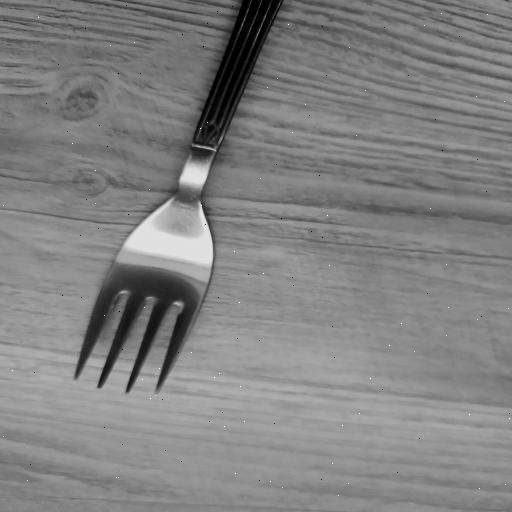fork: (60, 0, 289, 402)
